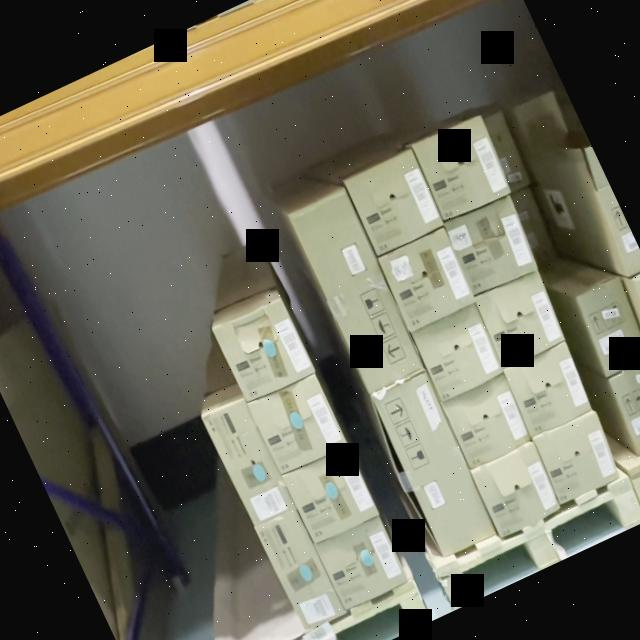box: (290, 191, 426, 400), (375, 372, 500, 560), (202, 397, 292, 521), (212, 297, 316, 404), (377, 220, 478, 329), (245, 375, 348, 479), (440, 190, 538, 296), (348, 153, 445, 260), (258, 509, 343, 625), (416, 119, 512, 217), (478, 273, 572, 372), (285, 450, 378, 544), (414, 306, 504, 400), (320, 520, 408, 612), (472, 445, 559, 536), (536, 410, 622, 500), (506, 346, 590, 434), (448, 379, 530, 465), (580, 285, 640, 366), (611, 361, 640, 451)
